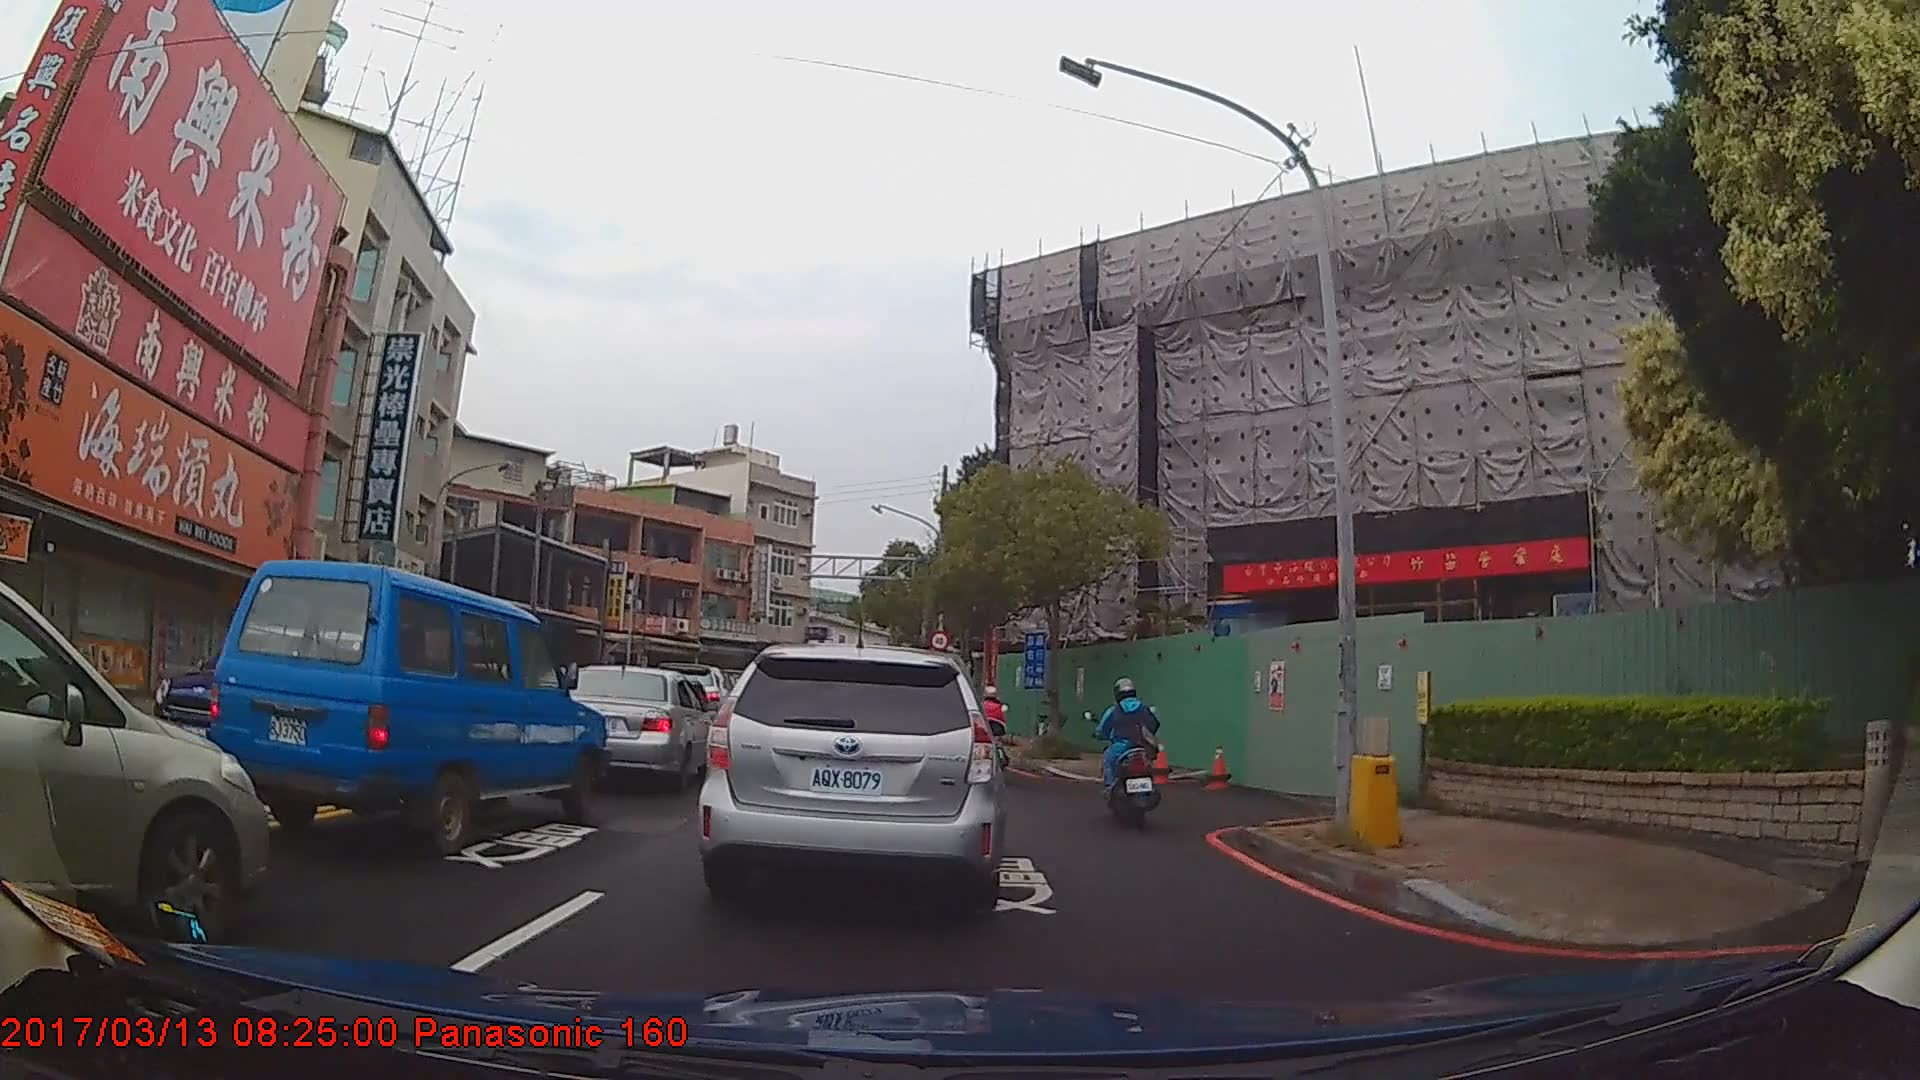rider: (1099, 680, 1160, 828), (974, 685, 1011, 777)
vehicle: (207, 556, 608, 856), (0, 583, 269, 948), (699, 642, 1010, 914), (146, 620, 403, 804), (555, 663, 714, 795)
